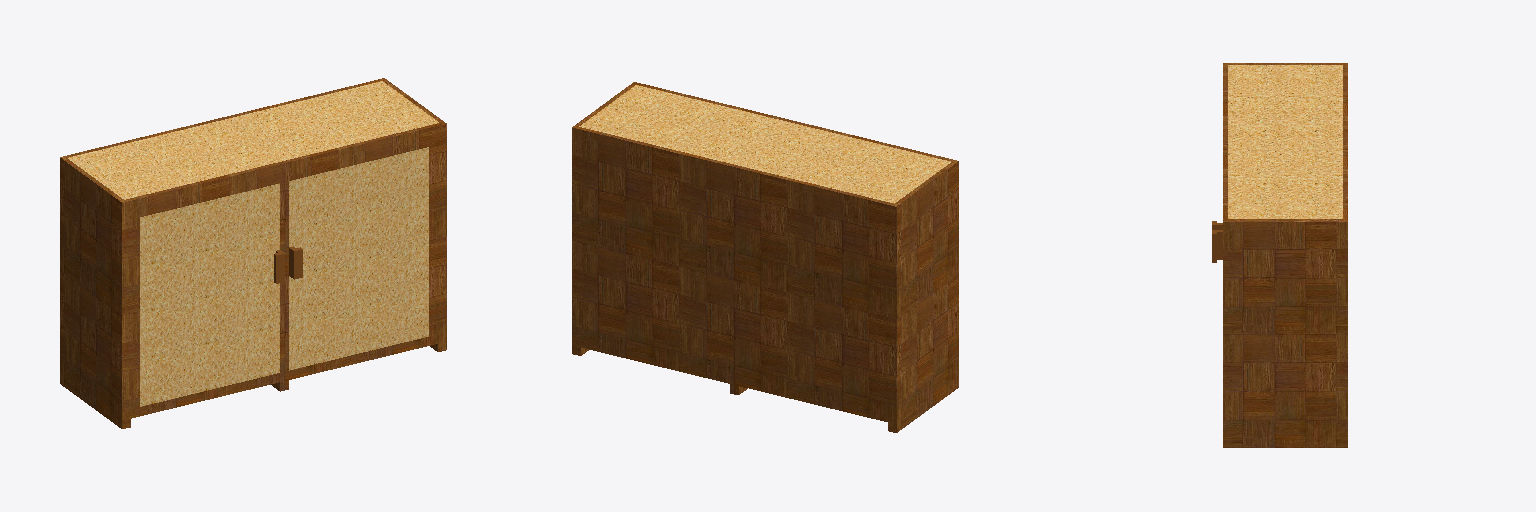
3 views of the same model, side by side, from view 1: azimuth 30°, elevation 25°; view 2: azimuth 150°, elevation 25°; view 3: azimuth 270°, elevation 25° (orthographic).
Visible parts, largest first — view 1: Mesh1 office_cupboard___1_1 Model; view 2: Mesh1 office_cupboard___1_1 Model; view 3: Mesh1 office_cupboard___1_1 Model.
Boxes of the visible parts, <box> form: Mesh1 office_cupboard___1_1 Model: <box>60,78,446,428</box>; Mesh1 office_cupboard___1_1 Model: <box>572,82,958,432</box>; Mesh1 office_cupboard___1_1 Model: <box>1212,63,1347,447</box>.
Bounding box in the file's own units: 72 × 48.15 × 26.
Materials: 3 (2 with a texture image).